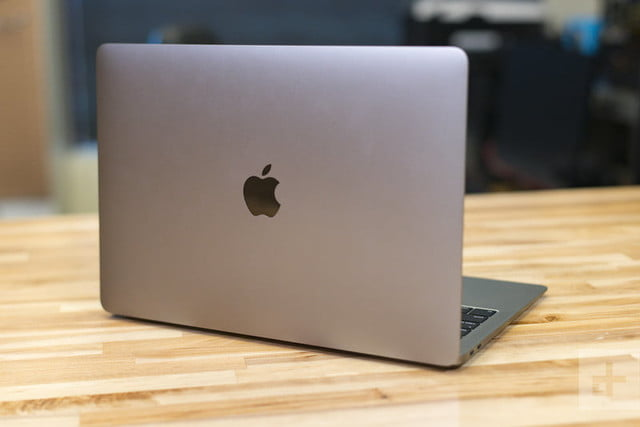apple: (238, 155, 287, 230)
